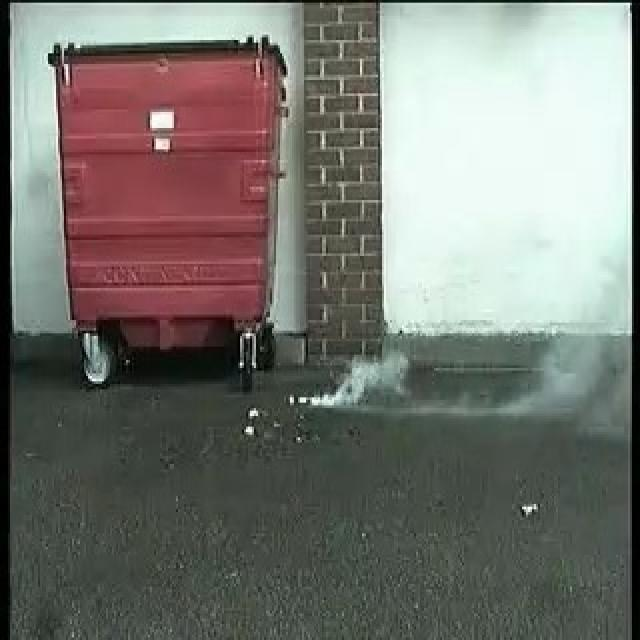smoke: (318, 339, 420, 410)
